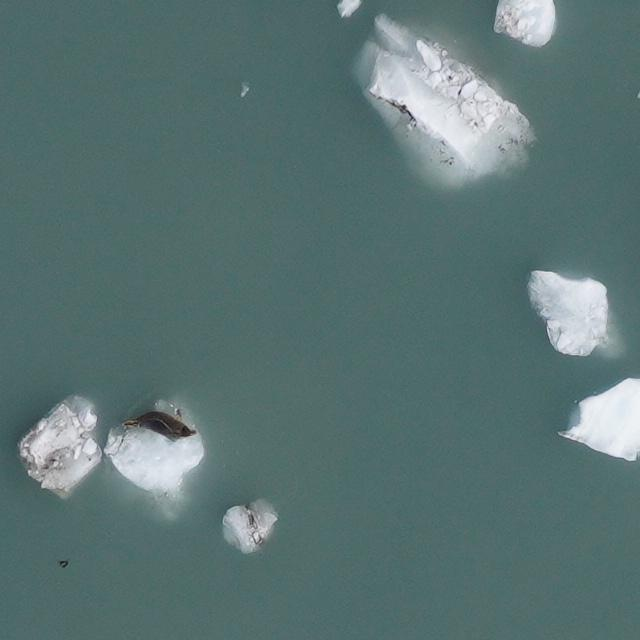seal: (122, 406, 199, 444)
